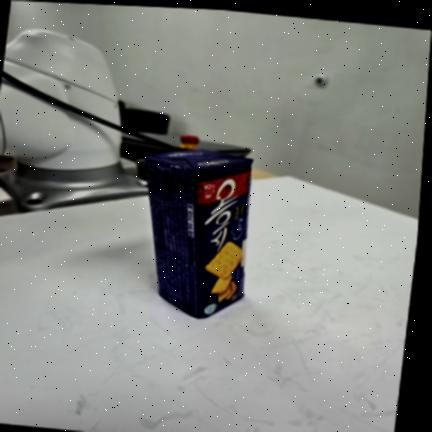cracker_ace: (145, 150, 252, 318)
